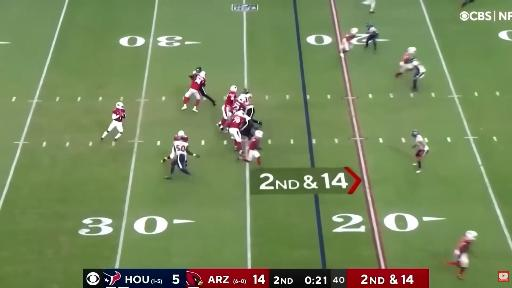Helmet: (466, 231, 477, 240), (237, 95, 246, 102), (235, 111, 245, 117), (255, 131, 263, 138), (230, 85, 237, 92), (412, 130, 419, 137), (116, 102, 123, 109), (408, 47, 416, 53), (195, 67, 202, 73), (351, 28, 358, 34), (199, 71, 205, 77), (242, 88, 249, 93), (178, 131, 185, 136), (412, 60, 419, 65), (178, 136, 185, 141)
Jersey: (173, 139, 188, 159), (190, 74, 205, 90), (228, 116, 246, 129), (456, 237, 470, 253), (415, 135, 428, 151), (232, 100, 245, 113), (414, 64, 426, 78), (225, 91, 236, 106), (113, 109, 125, 122), (249, 137, 260, 150), (402, 52, 414, 63), (245, 97, 253, 111), (367, 25, 378, 35), (345, 34, 355, 42), (174, 136, 188, 141)
Player: (162, 131, 199, 178), (447, 231, 477, 279), (227, 110, 250, 154), (182, 71, 205, 111), (101, 102, 125, 140), (218, 86, 237, 131), (239, 131, 263, 165), (241, 89, 262, 126), (412, 131, 429, 173), (395, 47, 416, 77), (412, 60, 426, 91), (341, 28, 358, 53), (200, 83, 216, 106), (365, 23, 378, 50), (232, 95, 246, 113), (363, 0, 375, 13), (461, 0, 474, 8)
